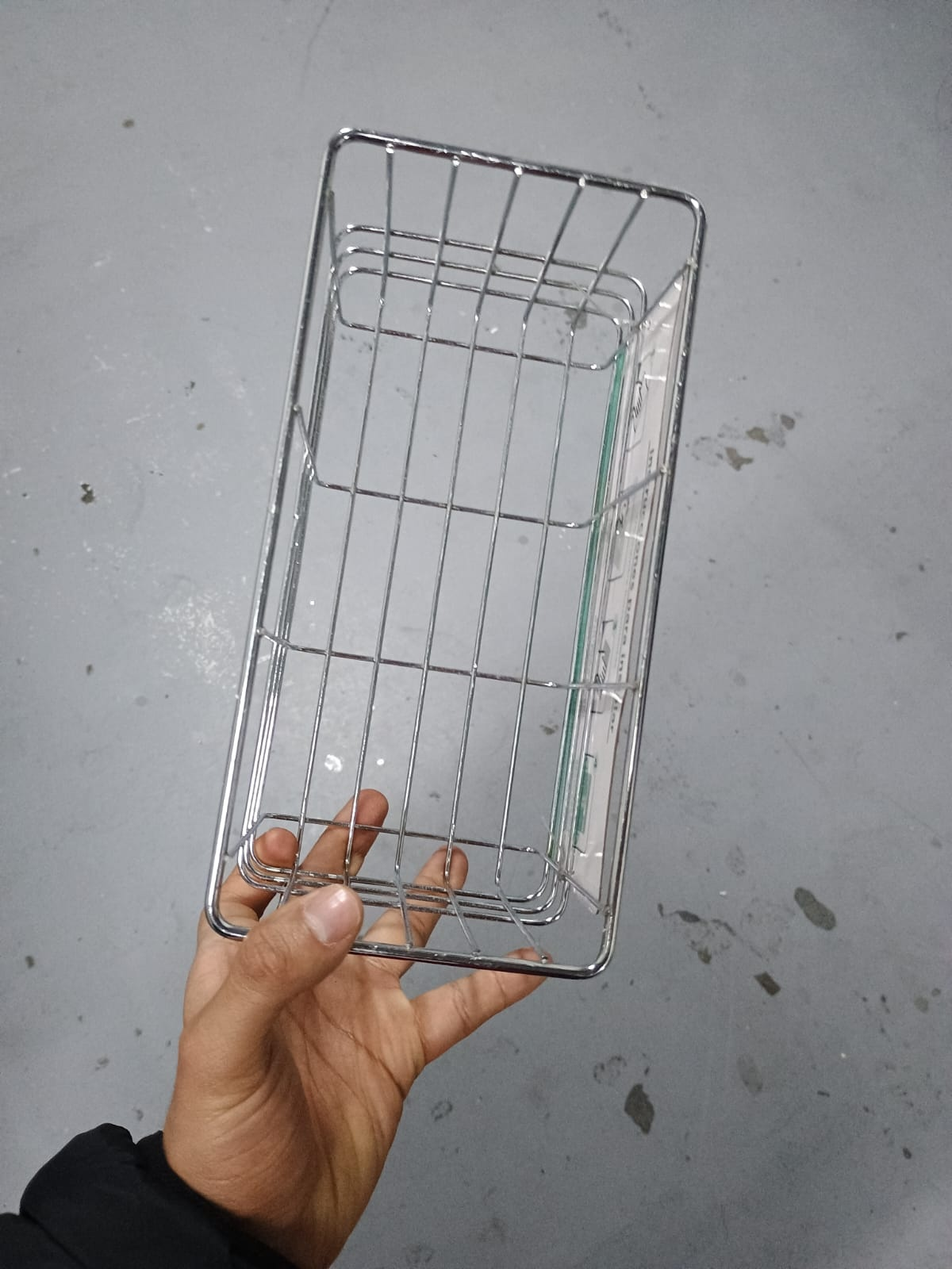Metal: (204, 127, 703, 984)
